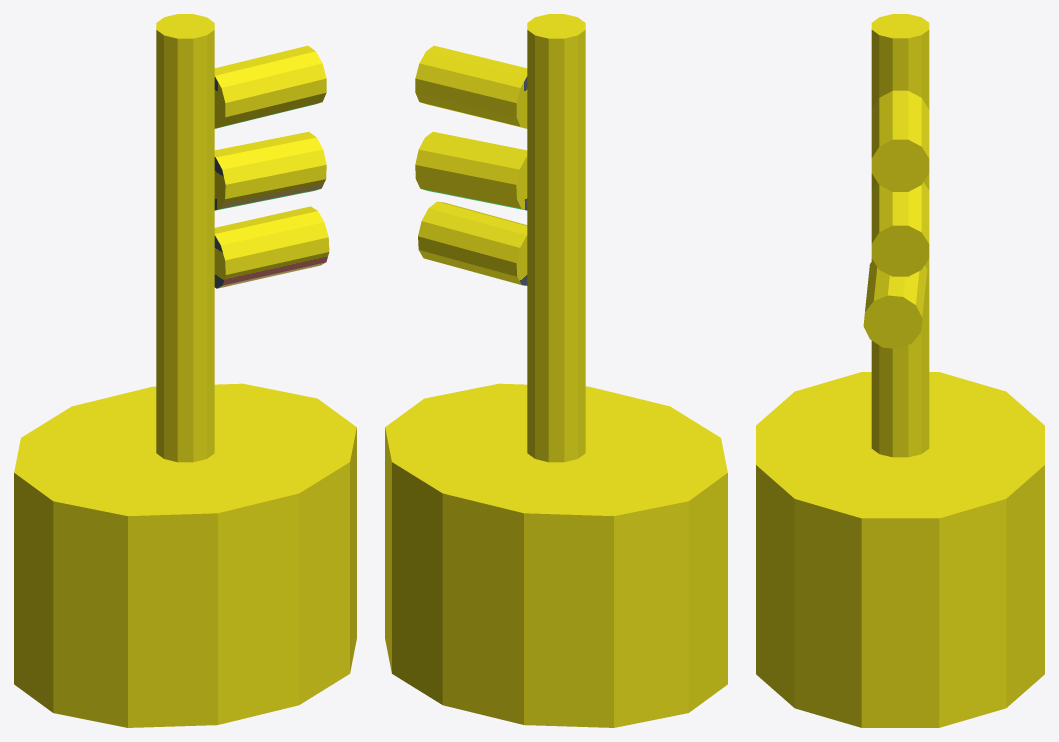
The model's file is chiave 1 (1).gltf.
3 renders of one model, left to right at view 1: azimuth 30°, elevation 25°; view 2: azimuth 150°, elevation 25°; view 3: azimuth 270°, elevation 25°, orthographic.
Visible parts, largest first — view 1: cylinder (×5); view 2: cylinder (×5); view 3: cylinder (×5).
Part boxes in pixels (x1,y1,x2,y2): cylinder (×5): (14,14,356,727); cylinder (×5): (385,14,727,727); cylinder (×5): (756,14,1044,727).
Size of what is drawn, in the model's own units: 0.75 by 1.5 by 0.625.
1 material, 1 textured.
